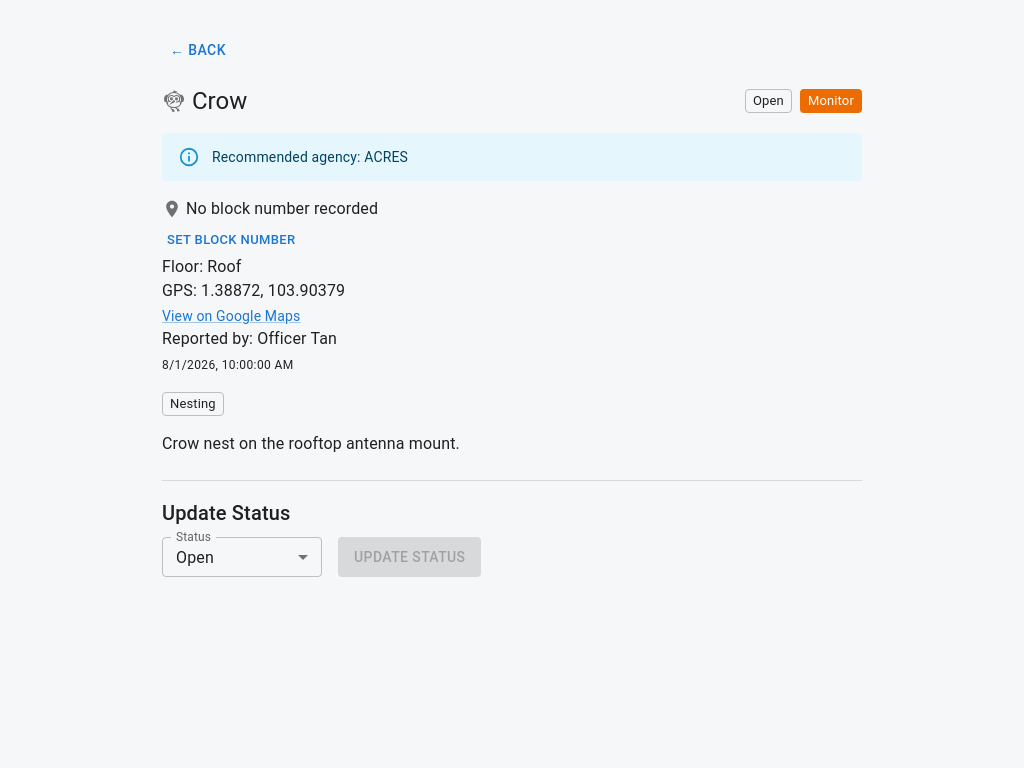
Test: FaunaSightingDetail - setting a block on a blockless sighting › confirms with the "set" wording and patches the block endpoint
Click the button "Set block number".
click(231, 240)  # box [162,224,300,255]
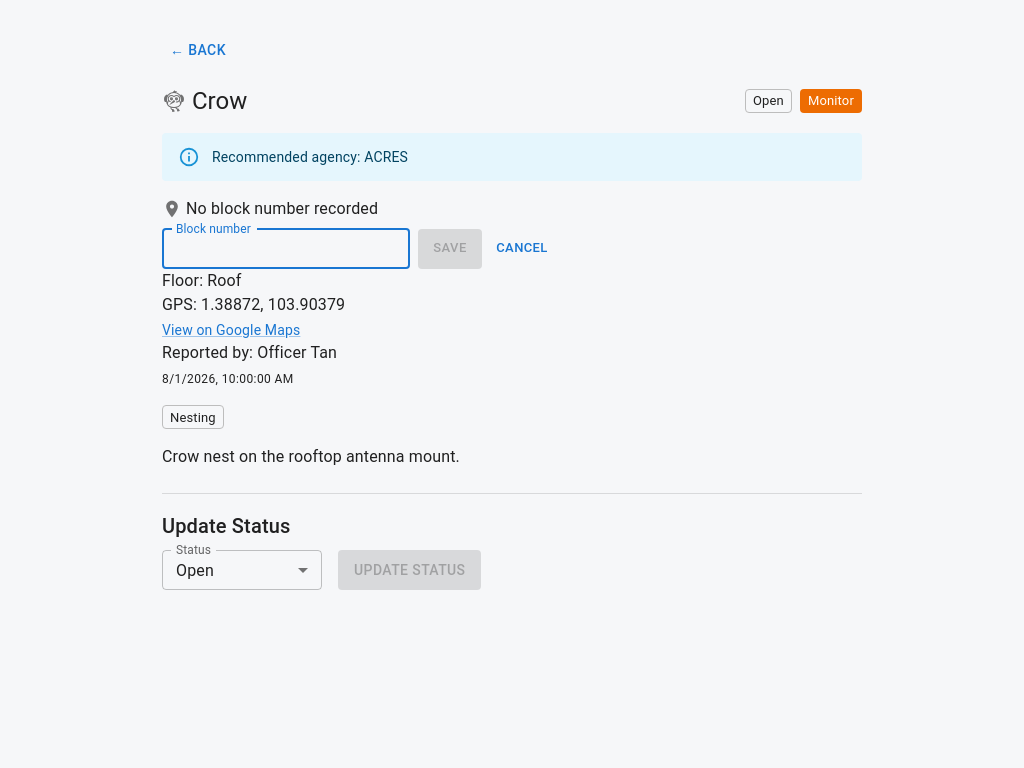
Type "Block 305" into the field labelled "Block number".
click(286, 248); type("Block 305")  # box [162,228,410,268]
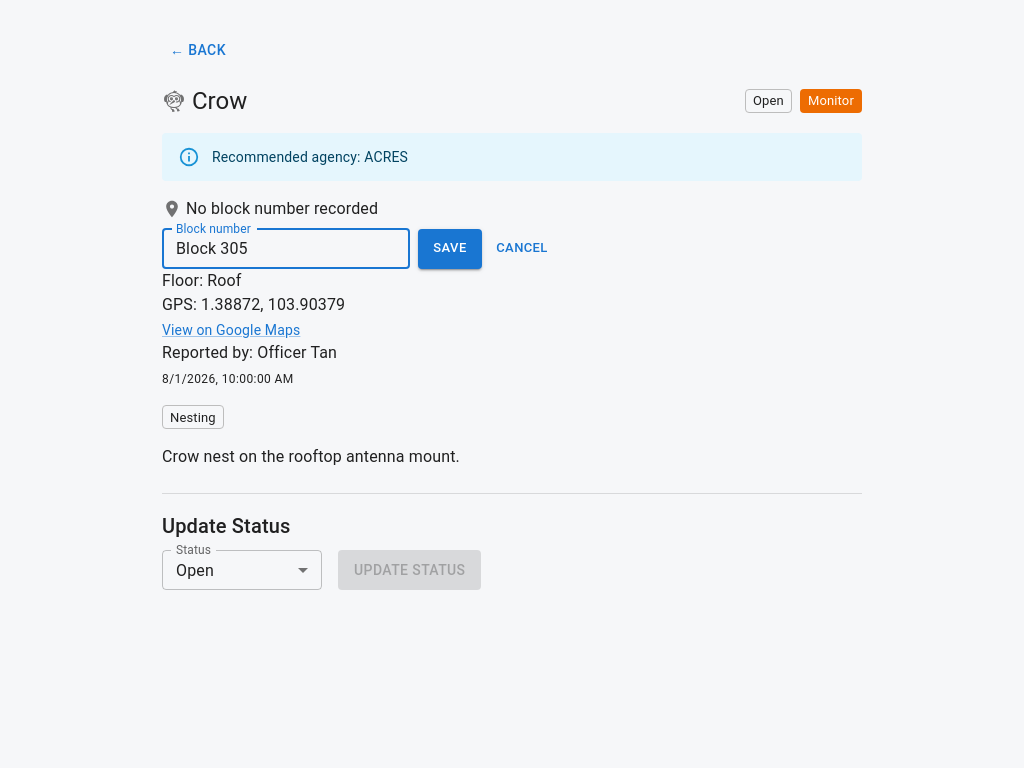
Click the button "Save".
click(450, 248)  # box [418,228,482,268]
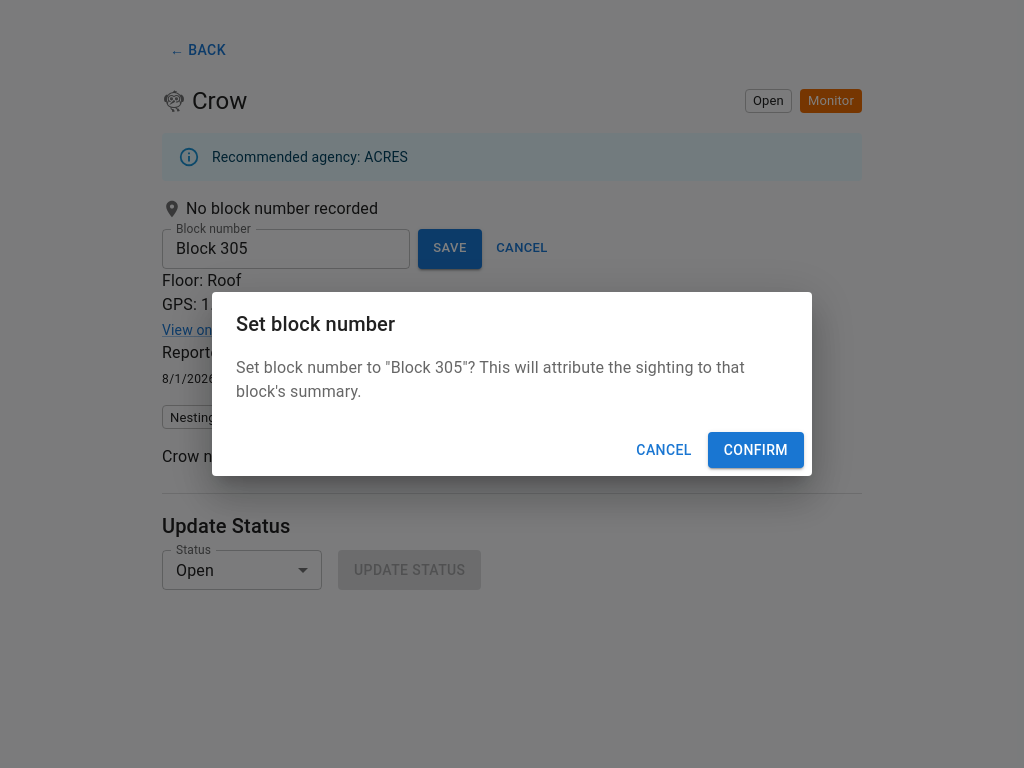
Check: the text "Set block number to \"Block 305\"?" is shown, box [236,356,788,404]
Check: the text "attribute the sighting to that block's summary" is shown, box [236,358,745,401]
Click the button "Confirm".
click(756, 450)  # box [708,432,804,468]
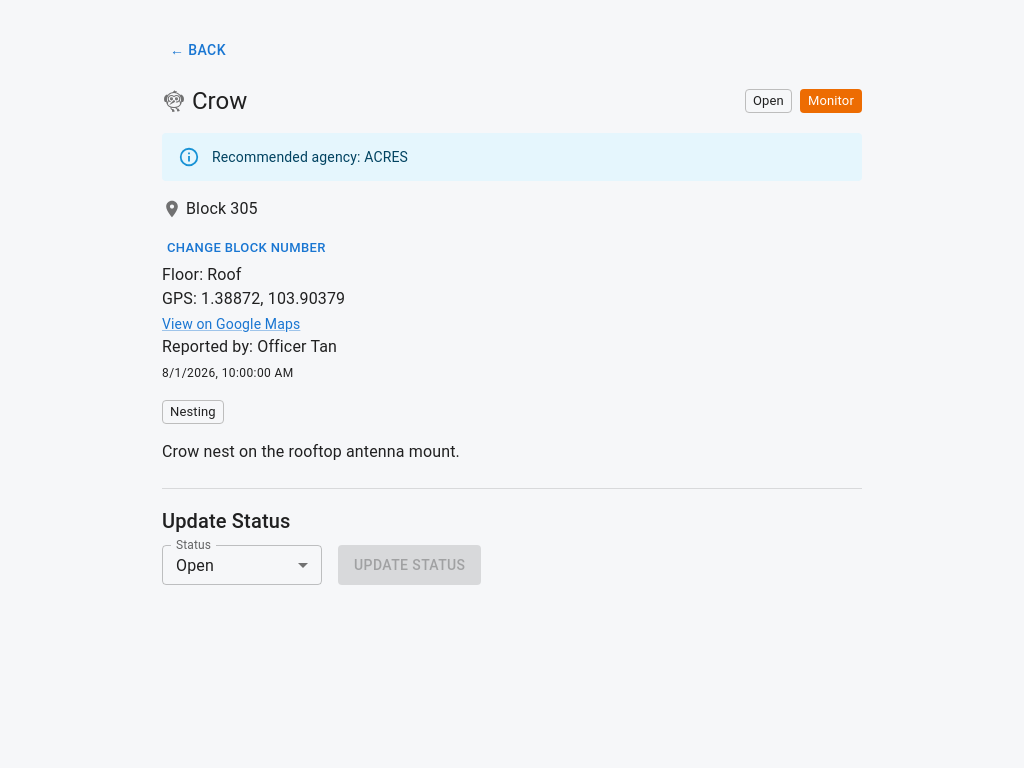
Check: the text "Block 305" is shown, box [186,196,258,220]
Check: the button "Change block number" is shown, box [162,232,331,263]
